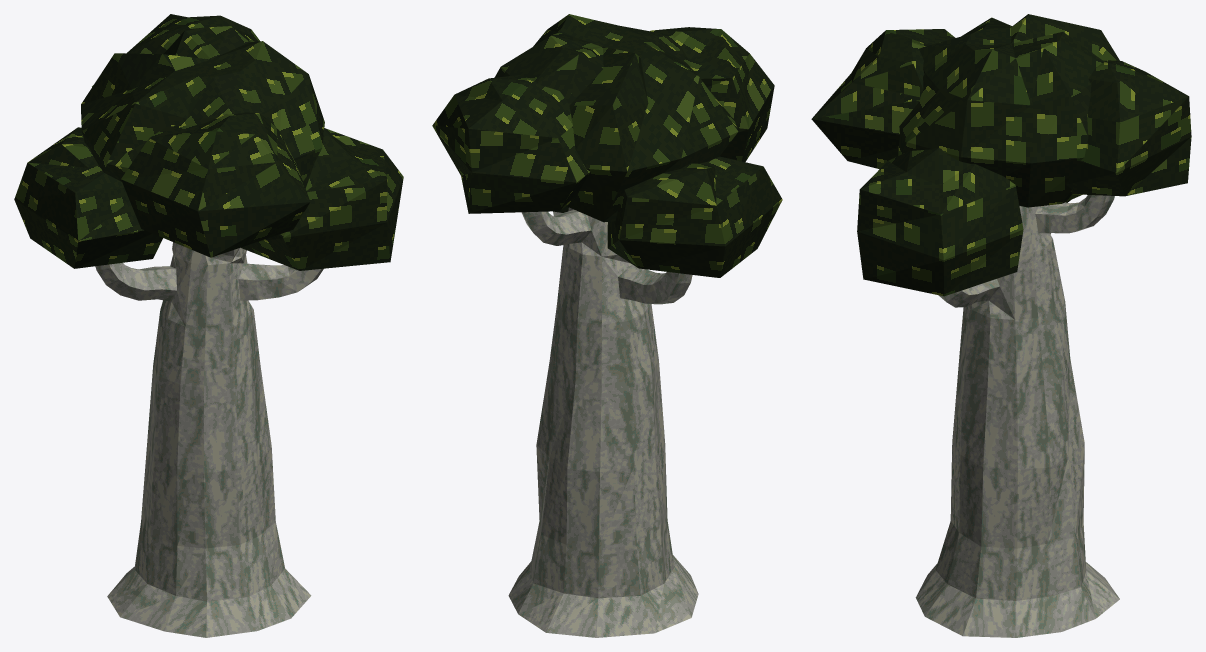
File: forest_tree_prop_b.glb
3 views of the same model, side by side, from view 1: azimuth 30°, elevation 25°; view 2: azimuth 150°, elevation 25°; view 3: azimuth 270°, elevation 25° (orthographic). The views are drawn at different scales.
Parts seen in each view (by area): view 1: ForestTreePropB; view 2: ForestTreePropB; view 3: ForestTreePropB.
Boxes of the visible parts, <box> form: ForestTreePropB: <box>14,14,403,637</box>; ForestTreePropB: <box>432,14,782,637</box>; ForestTreePropB: <box>811,14,1191,637</box>.
Size of what is drawn, in the model's own units: 4.83 by 8.01 by 4.85.
2 materials, 2 textured.
